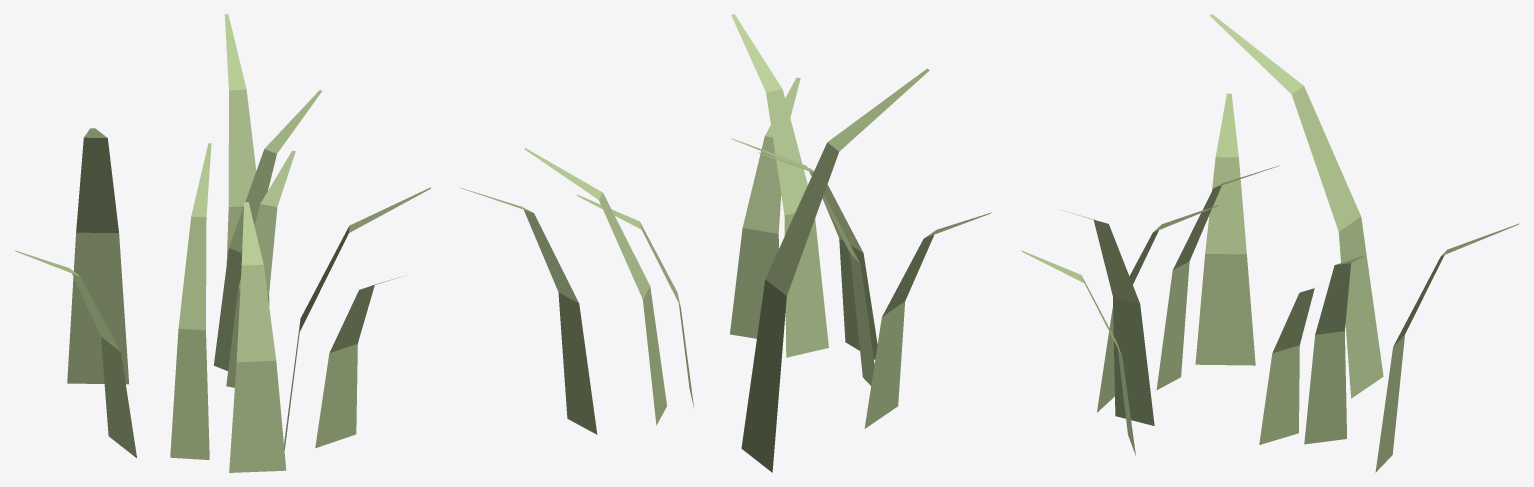
File: grass_tuft_short.glb
3 views of the same model, side by side, from view 1: azimuth 30°, elevation 25°; view 2: azimuth 150°, elevation 25°; view 3: azimuth 270°, elevation 25° (orthographic). The views are drawn at different scales.
Visible parts, largest first — view 1: grass-tuft-short; view 2: grass-tuft-short; view 3: grass-tuft-short.
Boxes of the visible parts, left/top/right/bottom form: grass-tuft-short: left=15, top=14, right=430, bottom=472; grass-tuft-short: left=460, top=14, right=991, bottom=472; grass-tuft-short: left=1021, top=14, right=1519, bottom=472.
Size of the model in its own units: 0.4334 by 0.3692 by 0.5021.
